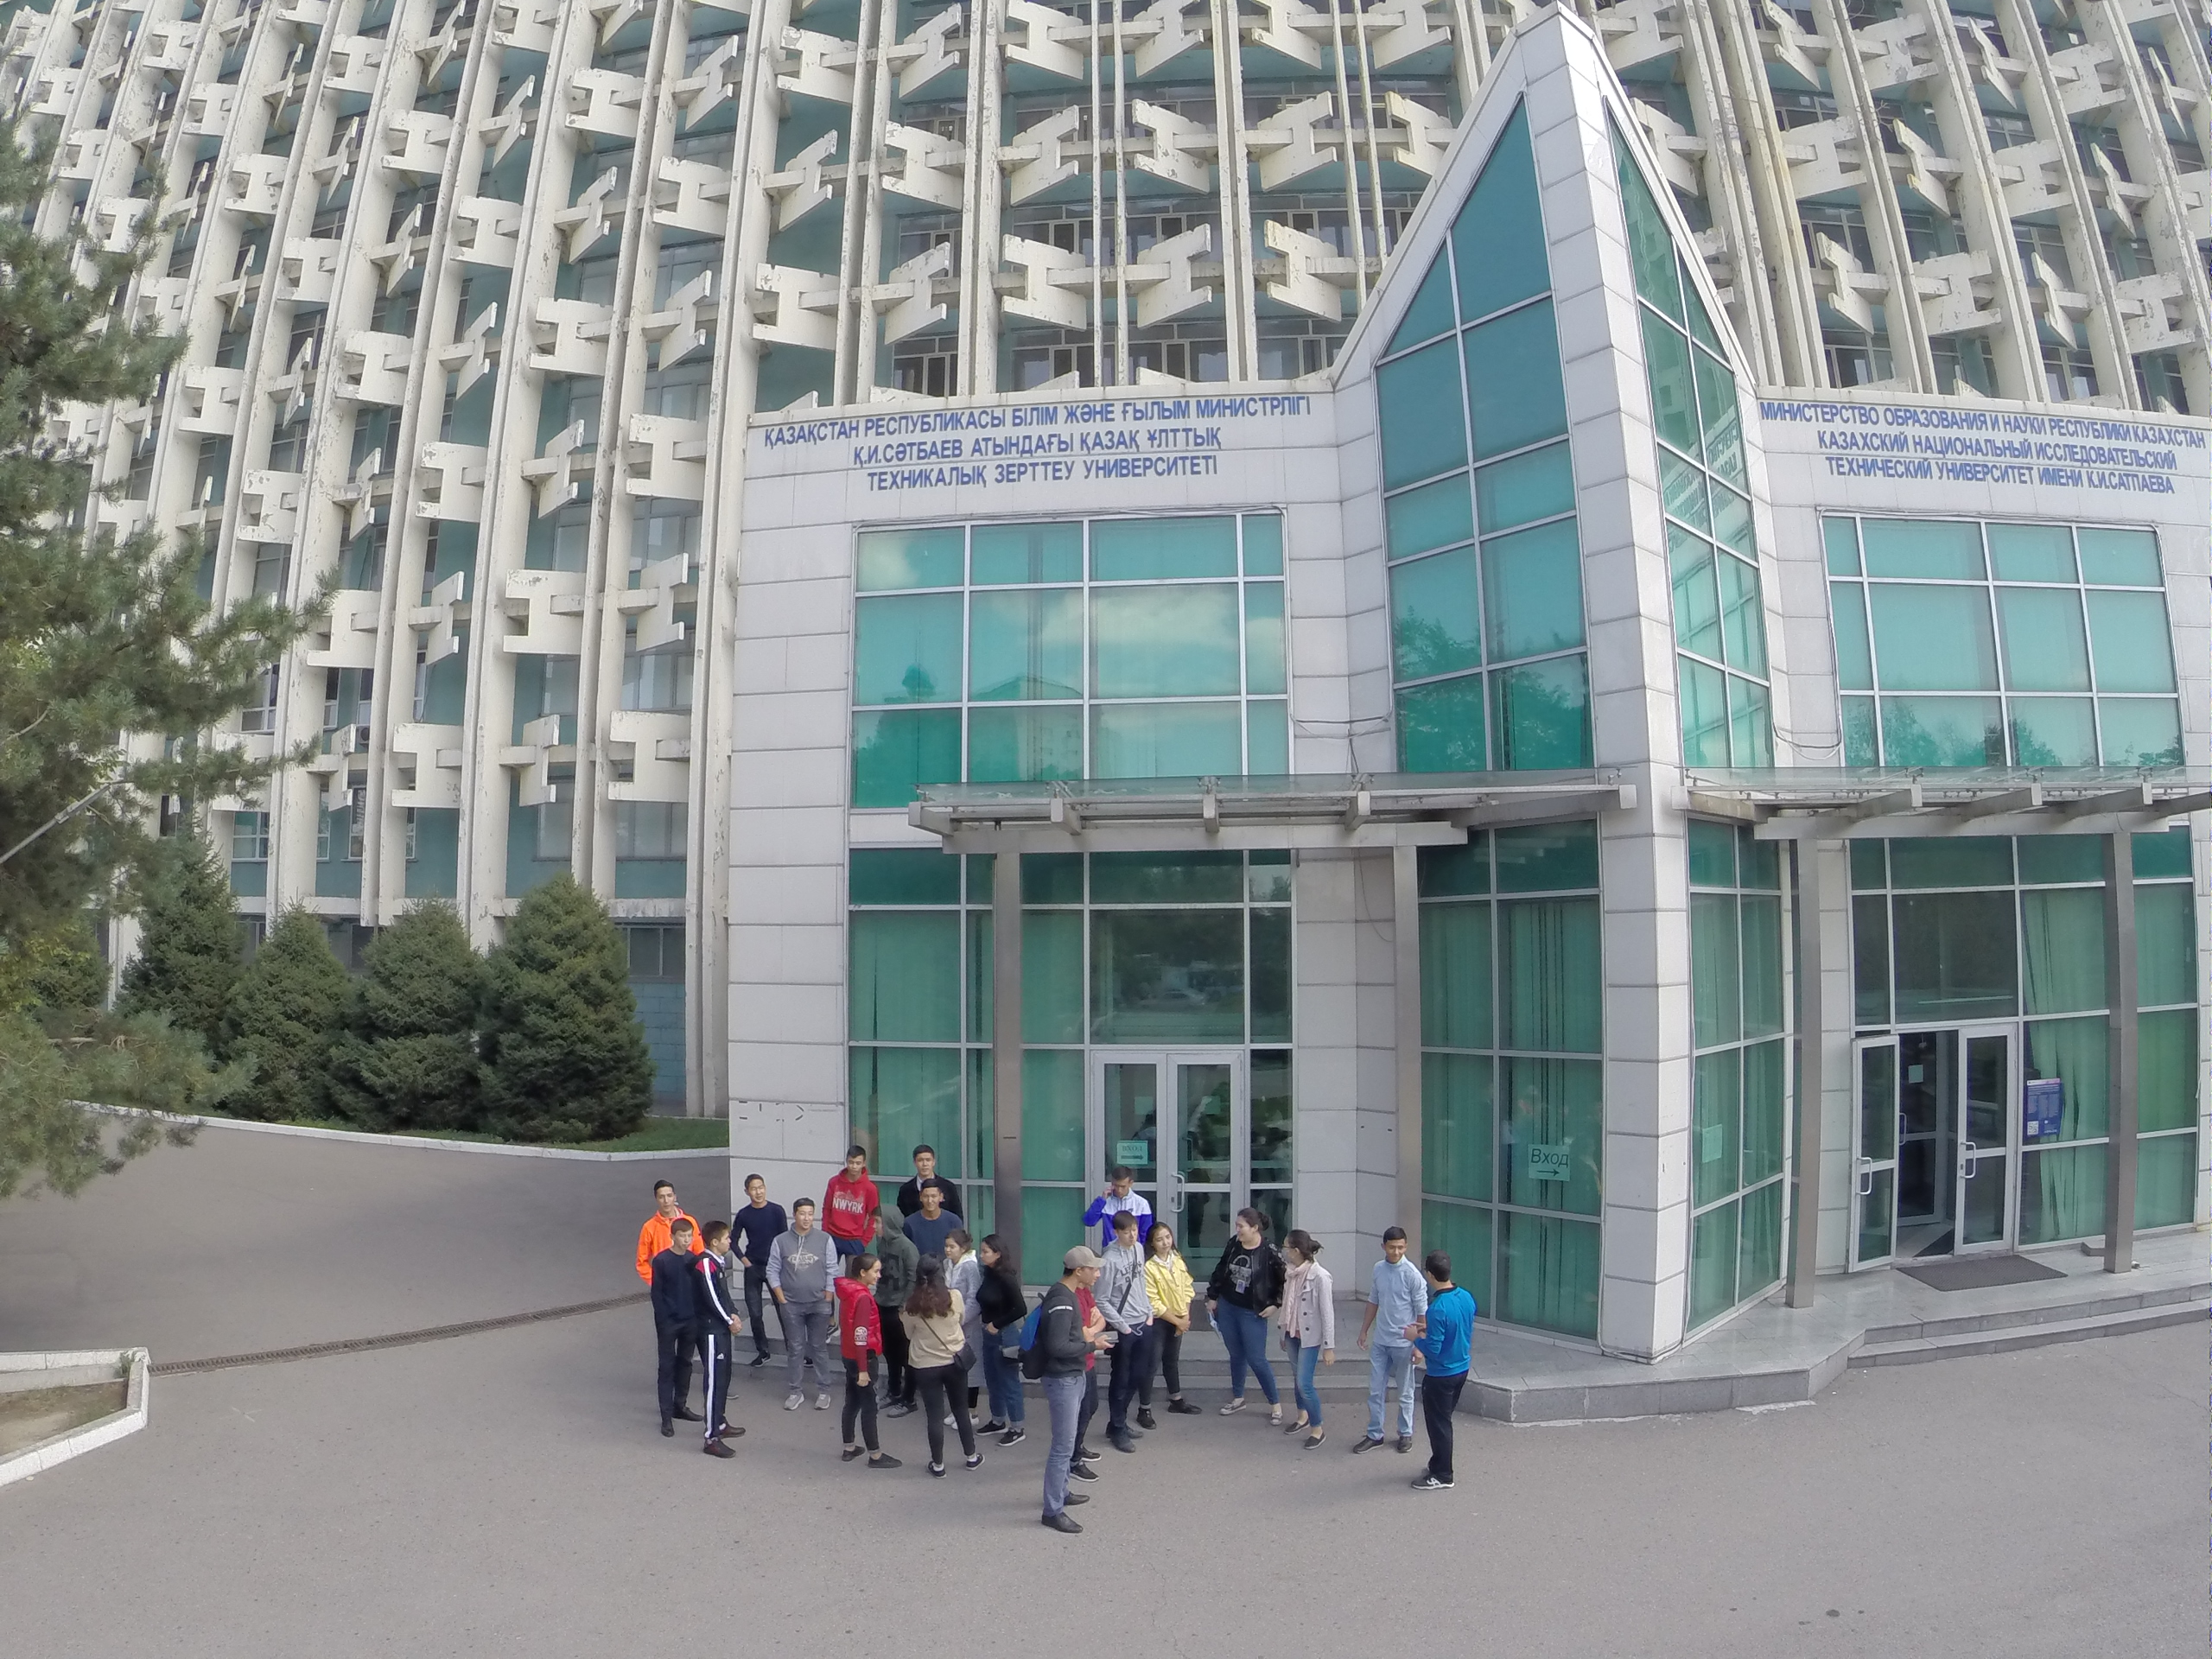person: (1409, 1254, 1481, 1492), (1035, 1248, 1094, 1535), (1217, 1211, 1284, 1423), (910, 1264, 976, 1476), (833, 1256, 899, 1473), (773, 1198, 838, 1410), (972, 1233, 1033, 1452), (1361, 1228, 1416, 1460), (693, 1228, 746, 1465), (1281, 1224, 1332, 1446), (656, 1220, 705, 1436), (1149, 1228, 1203, 1411), (1116, 1213, 1156, 1444), (828, 1140, 876, 1244), (734, 1177, 789, 1254), (1091, 1167, 1147, 1232), (909, 1190, 960, 1249), (648, 1183, 686, 1224), (944, 1230, 967, 1294), (907, 1136, 940, 1178)
